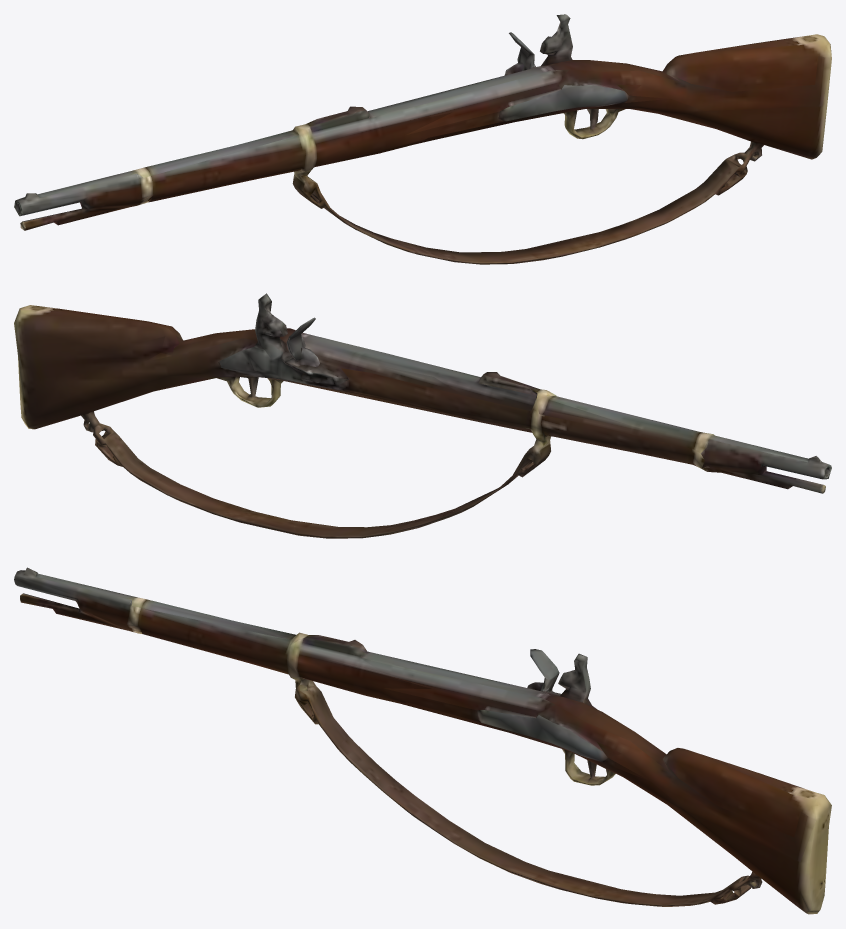
File: 4fb92659-06c6-4bbe-b0d3-ed21f37c2c8b.glb
3 renders of one model, top to bottom at view 1: azimuth 30°, elevation 25°; view 2: azimuth 150°, elevation 25°; view 3: azimuth 330°, elevation 25°, orthographic.
Parts seen in each view (by area): view 1: Mesh_0; view 2: Mesh_0; view 3: Mesh_0.
Boxes of the visible parts, <box> form: Mesh_0: <box>14,14,831,264</box>; Mesh_0: <box>14,293,831,538</box>; Mesh_0: <box>14,567,831,914</box>.
Bounding box in the file's own units: 0.5451 × 0.1494 × 0.0368.
1 material, 1 textured.
